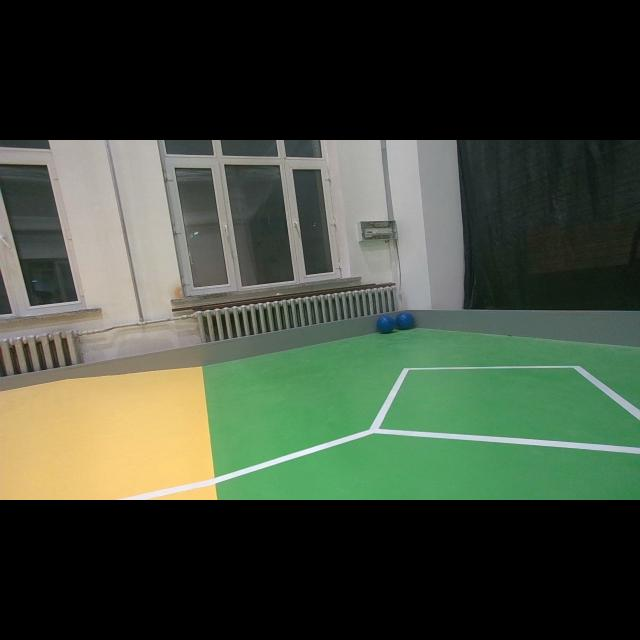B: (376, 314, 396, 334), (396, 312, 414, 330)
